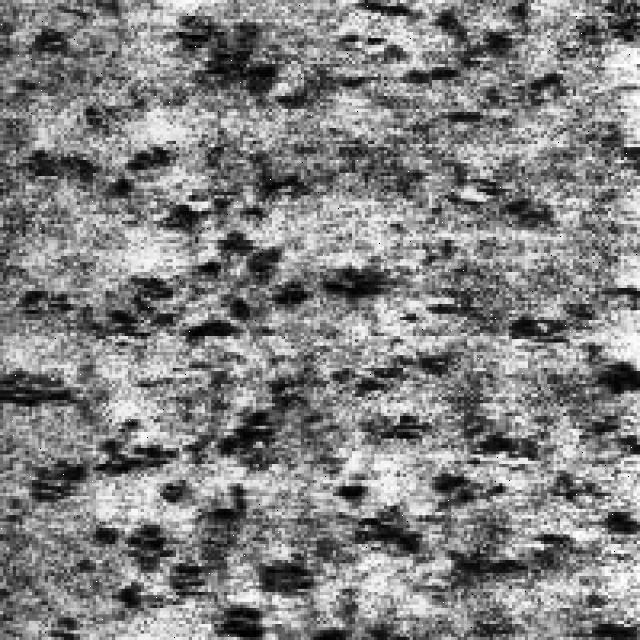Crazing: (6, 192, 397, 634), (214, 307, 637, 605), (330, 0, 580, 125), (163, 0, 352, 112)
